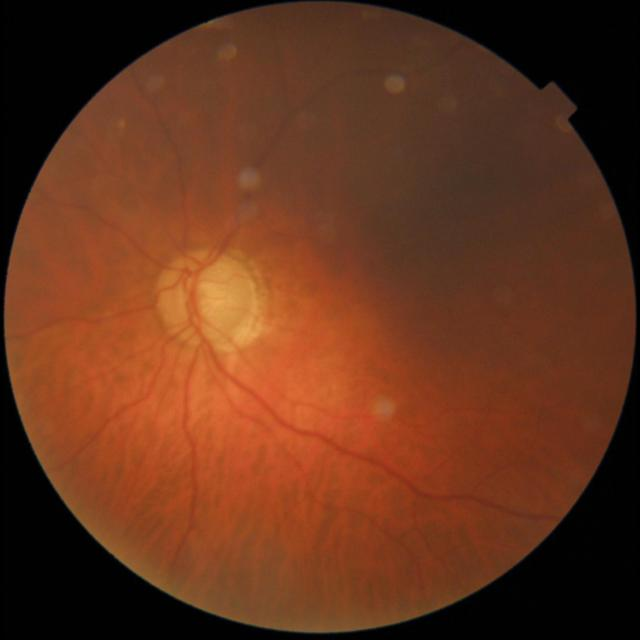OC: (181, 280, 223, 319)
OD: (157, 255, 256, 344)
